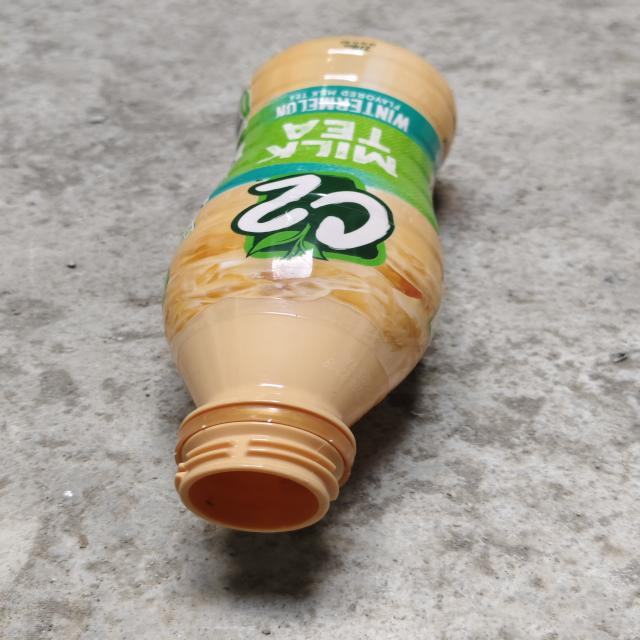Bottle: (163, 37, 456, 532)
